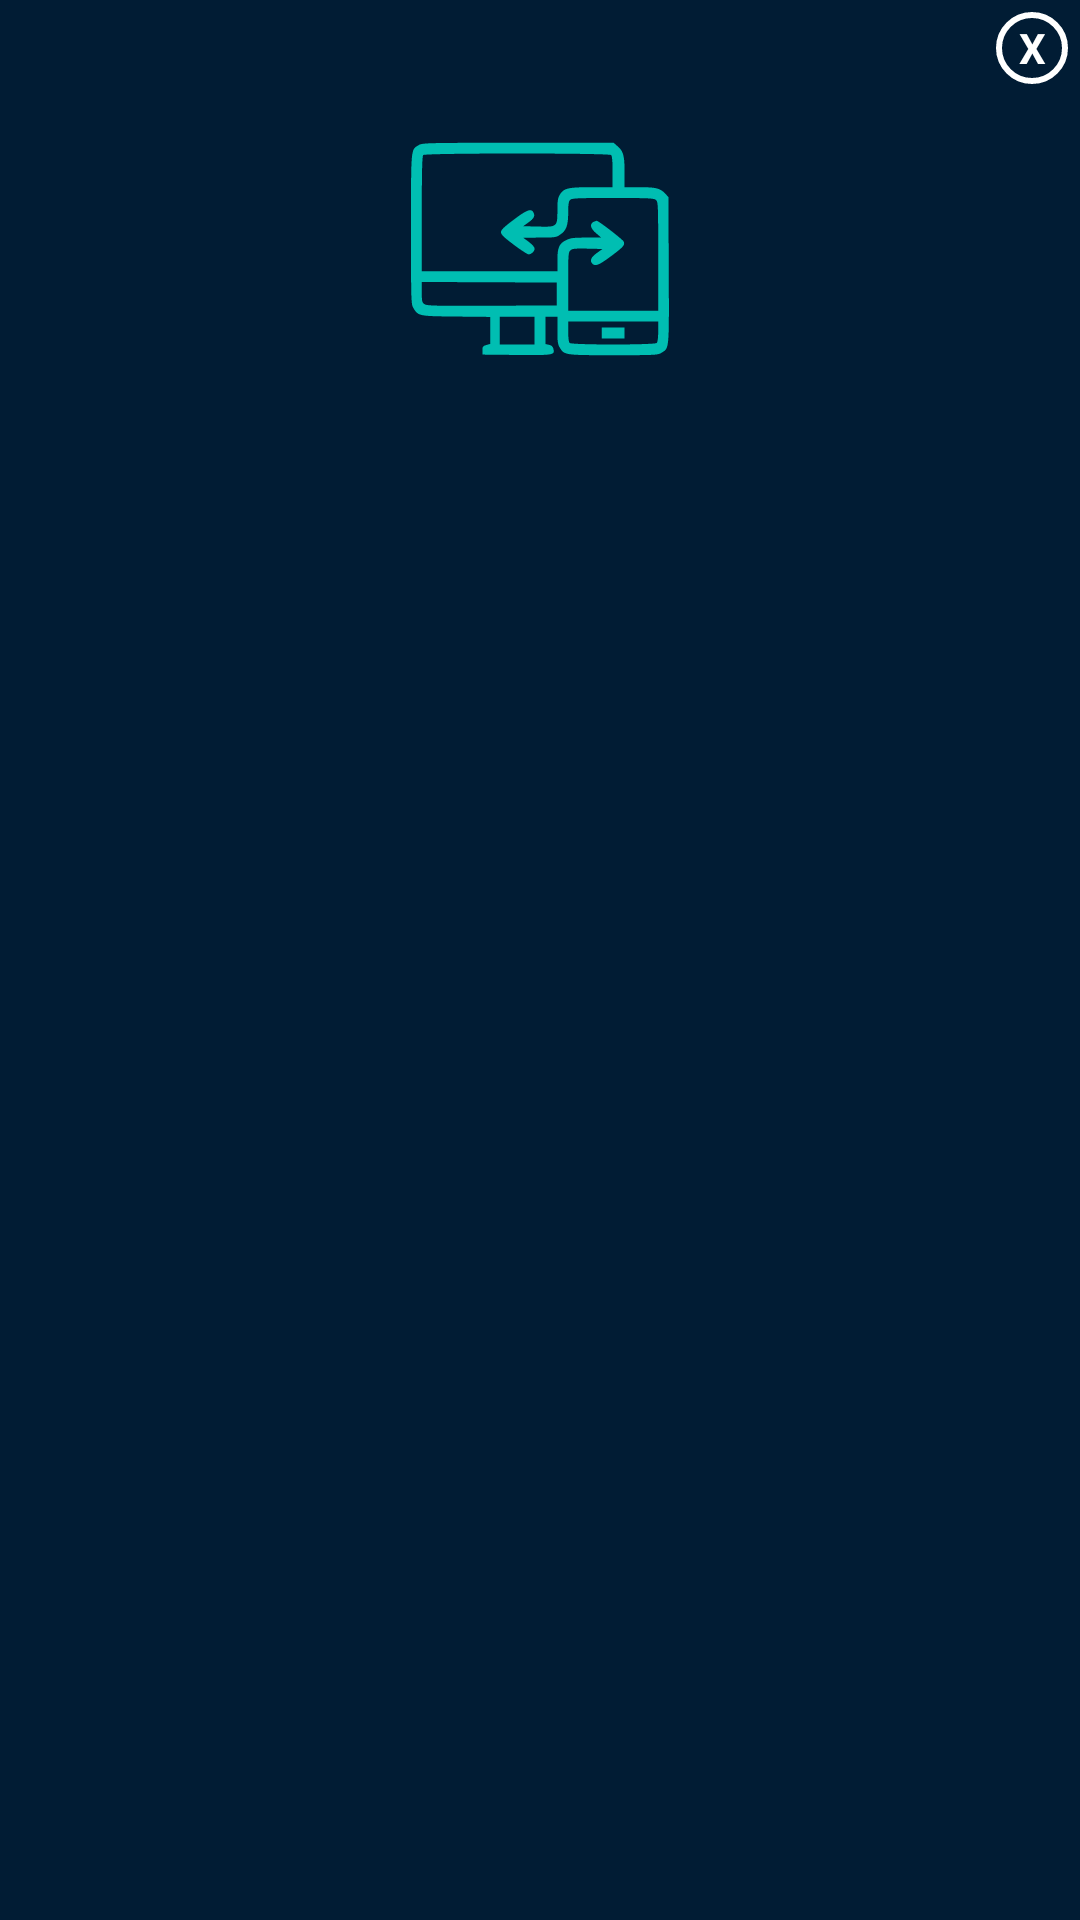

Icons on this 1080px×1920px Android screen, each with the point to tap as (x,y):
dashboard sync: (540,249)
